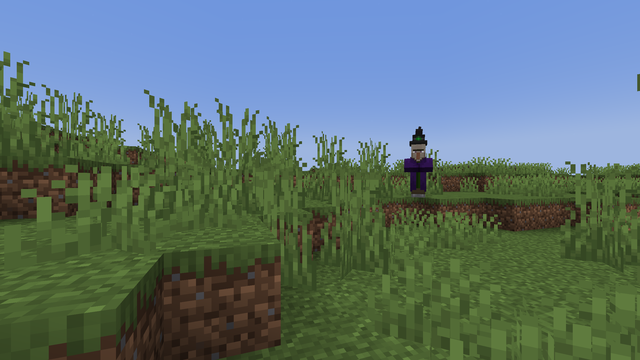sorcieres: (405, 141, 430, 197)
